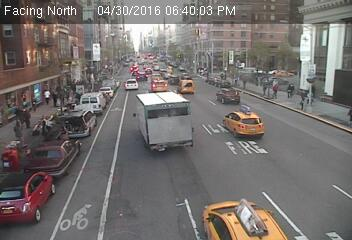neg: (69, 89, 86, 111), (111, 107, 127, 129), (156, 36, 171, 56), (209, 35, 223, 54), (161, 122, 174, 139), (65, 39, 78, 56), (134, 76, 146, 91), (114, 36, 123, 49), (172, 69, 179, 78), (135, 53, 140, 59)
pos: (12, 108, 35, 139), (266, 75, 285, 101), (255, 78, 271, 99), (37, 85, 53, 106), (284, 80, 297, 97)
